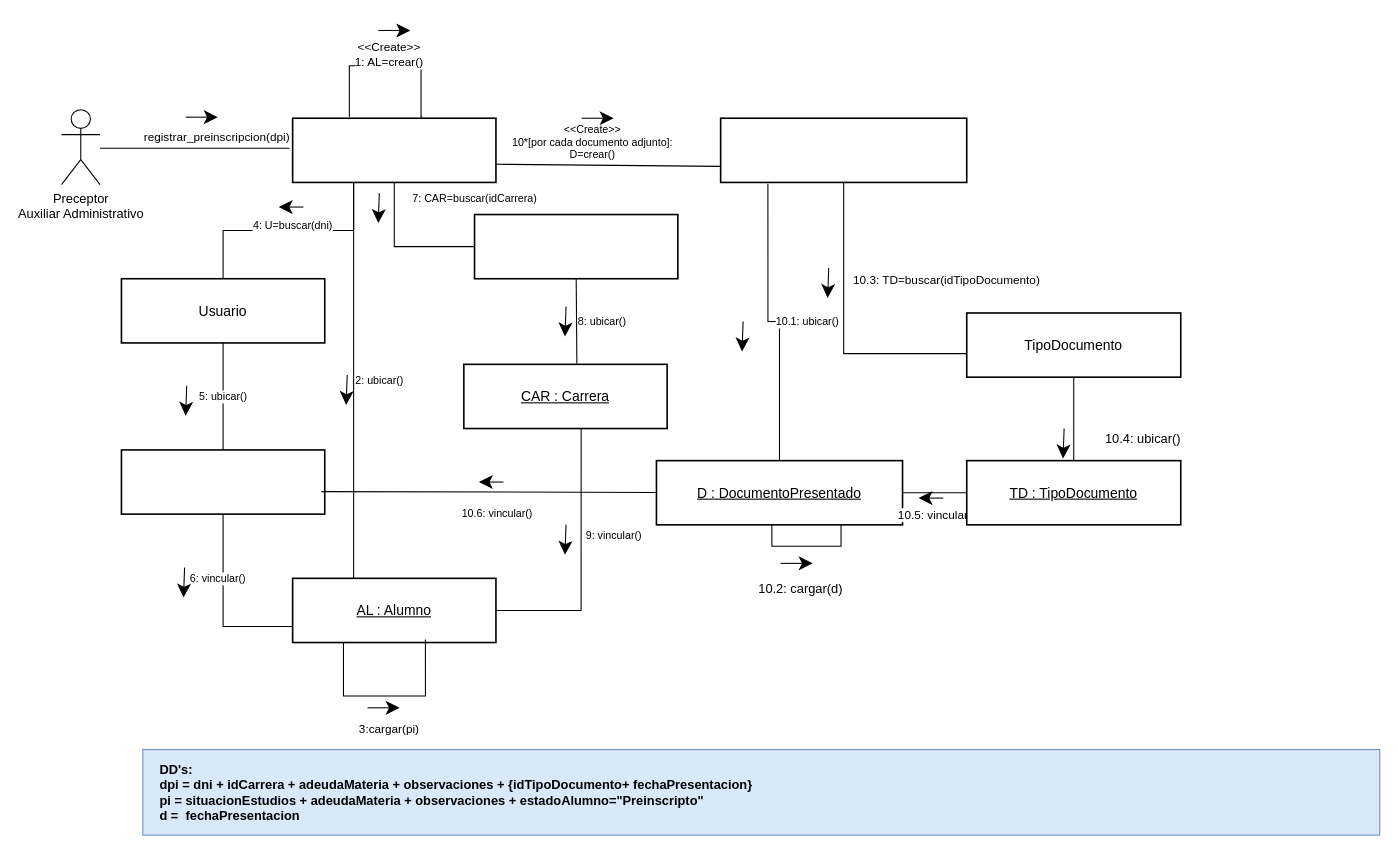
Some shapes in this 1398 by 854 pixel diagram are drawn without their labels. The centre of each missing label's shape, as x and y in pixels:
"Alumno" belongs at (x=393, y=150).
"Carrera" belongs at (x=575, y=246).
"DocumentoPresentado" belongs at (x=843, y=150).
"U : Usuario" belongs at (x=222, y=481).
